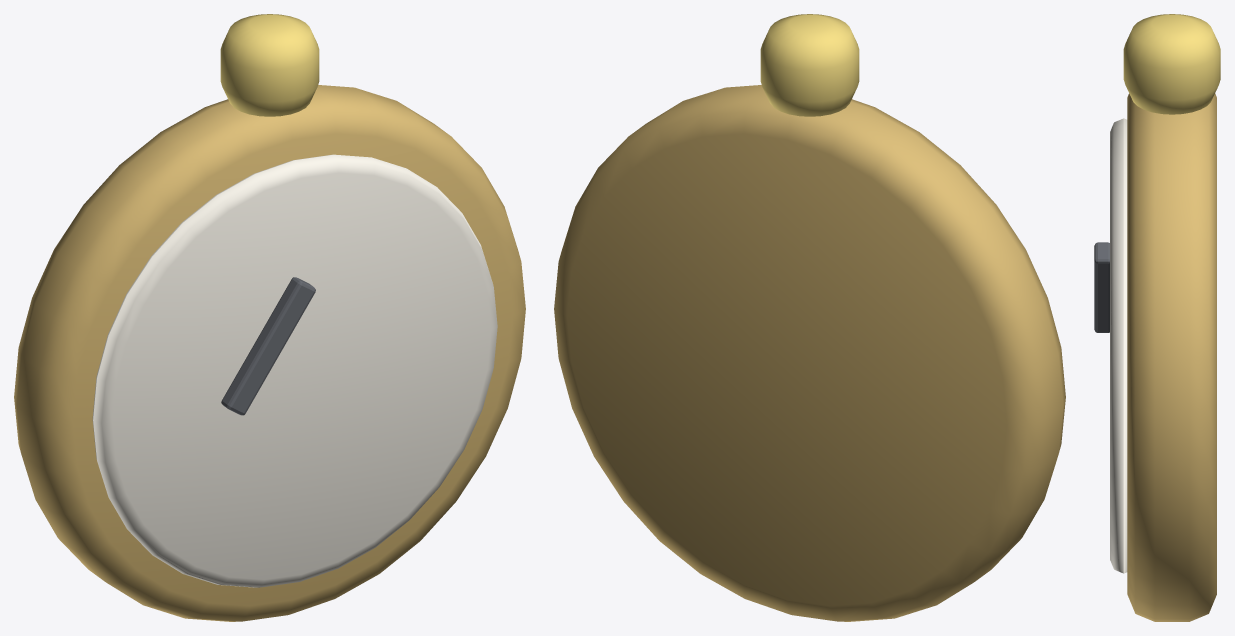
The model's file is SM_Art_PocketWatch.fbx.
The picture shows the model from 3 angles, left to right: view 1: azimuth 30°, elevation 25°; view 2: azimuth 150°, elevation 25°; view 3: azimuth 270°, elevation 25°; orthographic projection. The views are drawn at different scales.
Visible parts, largest first — view 1: Dial, Case, Crown, Hand1; view 2: Case, Crown; view 3: Case, Crown, Dial, Hand1.
Part boxes in pixels (left/top/right/bottom): Dial: left=92, top=154, right=497, bottom=587; Case: left=14, top=85, right=525, bottom=621; Crown: left=220, top=14, right=319, bottom=116; Hand1: left=221, top=277, right=315, bottom=415; Case: left=554, top=85, right=1065, bottom=621; Crown: left=760, top=14, right=859, bottom=116; Case: left=1127, top=93, right=1216, bottom=621; Crown: left=1123, top=14, right=1220, bottom=114; Dial: left=1110, top=118, right=1127, bottom=573; Hand1: left=1094, top=242, right=1109, bottom=332.
Bounding box in the file's own units: 0.16 × 0.183 × 0.0365.
